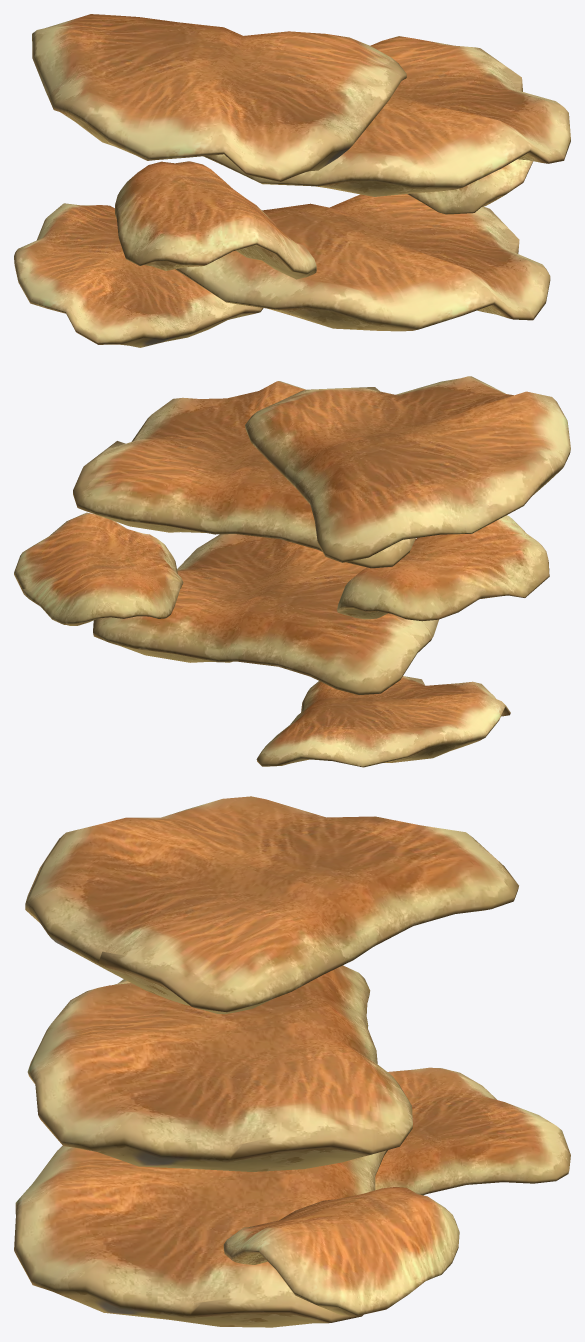
File: mushroom-laetiporus-transformed.glb
3 renders of one model, top to bottom at view 1: azimuth 30°, elevation 25°; view 2: azimuth 150°, elevation 25°; view 3: azimuth 270°, elevation 25°, orthographic. The views are drawn at different scales.
Visible parts, largest first — view 1: Mushroom_Laetiporus; view 2: Mushroom_Laetiporus; view 3: Mushroom_Laetiporus.
Part boxes in pixels (x1,y1,x2,y2): Mushroom_Laetiporus: [14, 14, 570, 347]; Mushroom_Laetiporus: [14, 376, 570, 767]; Mushroom_Laetiporus: [14, 796, 570, 1327].
Bounding box in the file's own units: 1.37 × 0.7669 × 1.1.
1 material, 1 textured.
